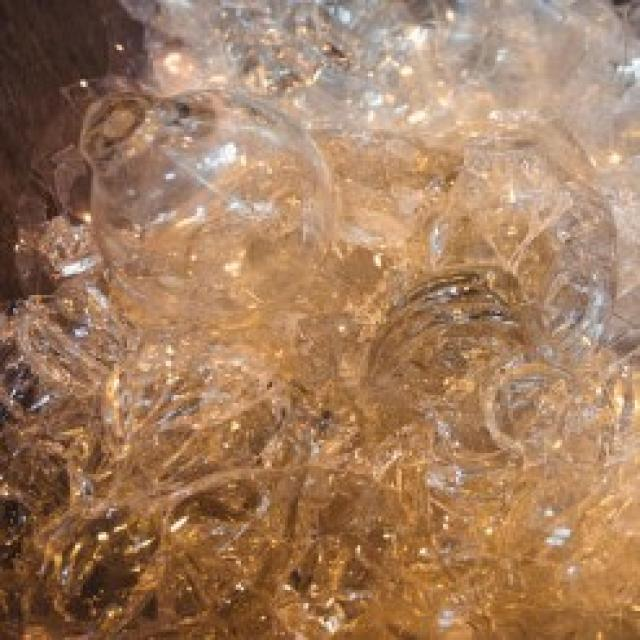electronic: (74, 90, 338, 331)
